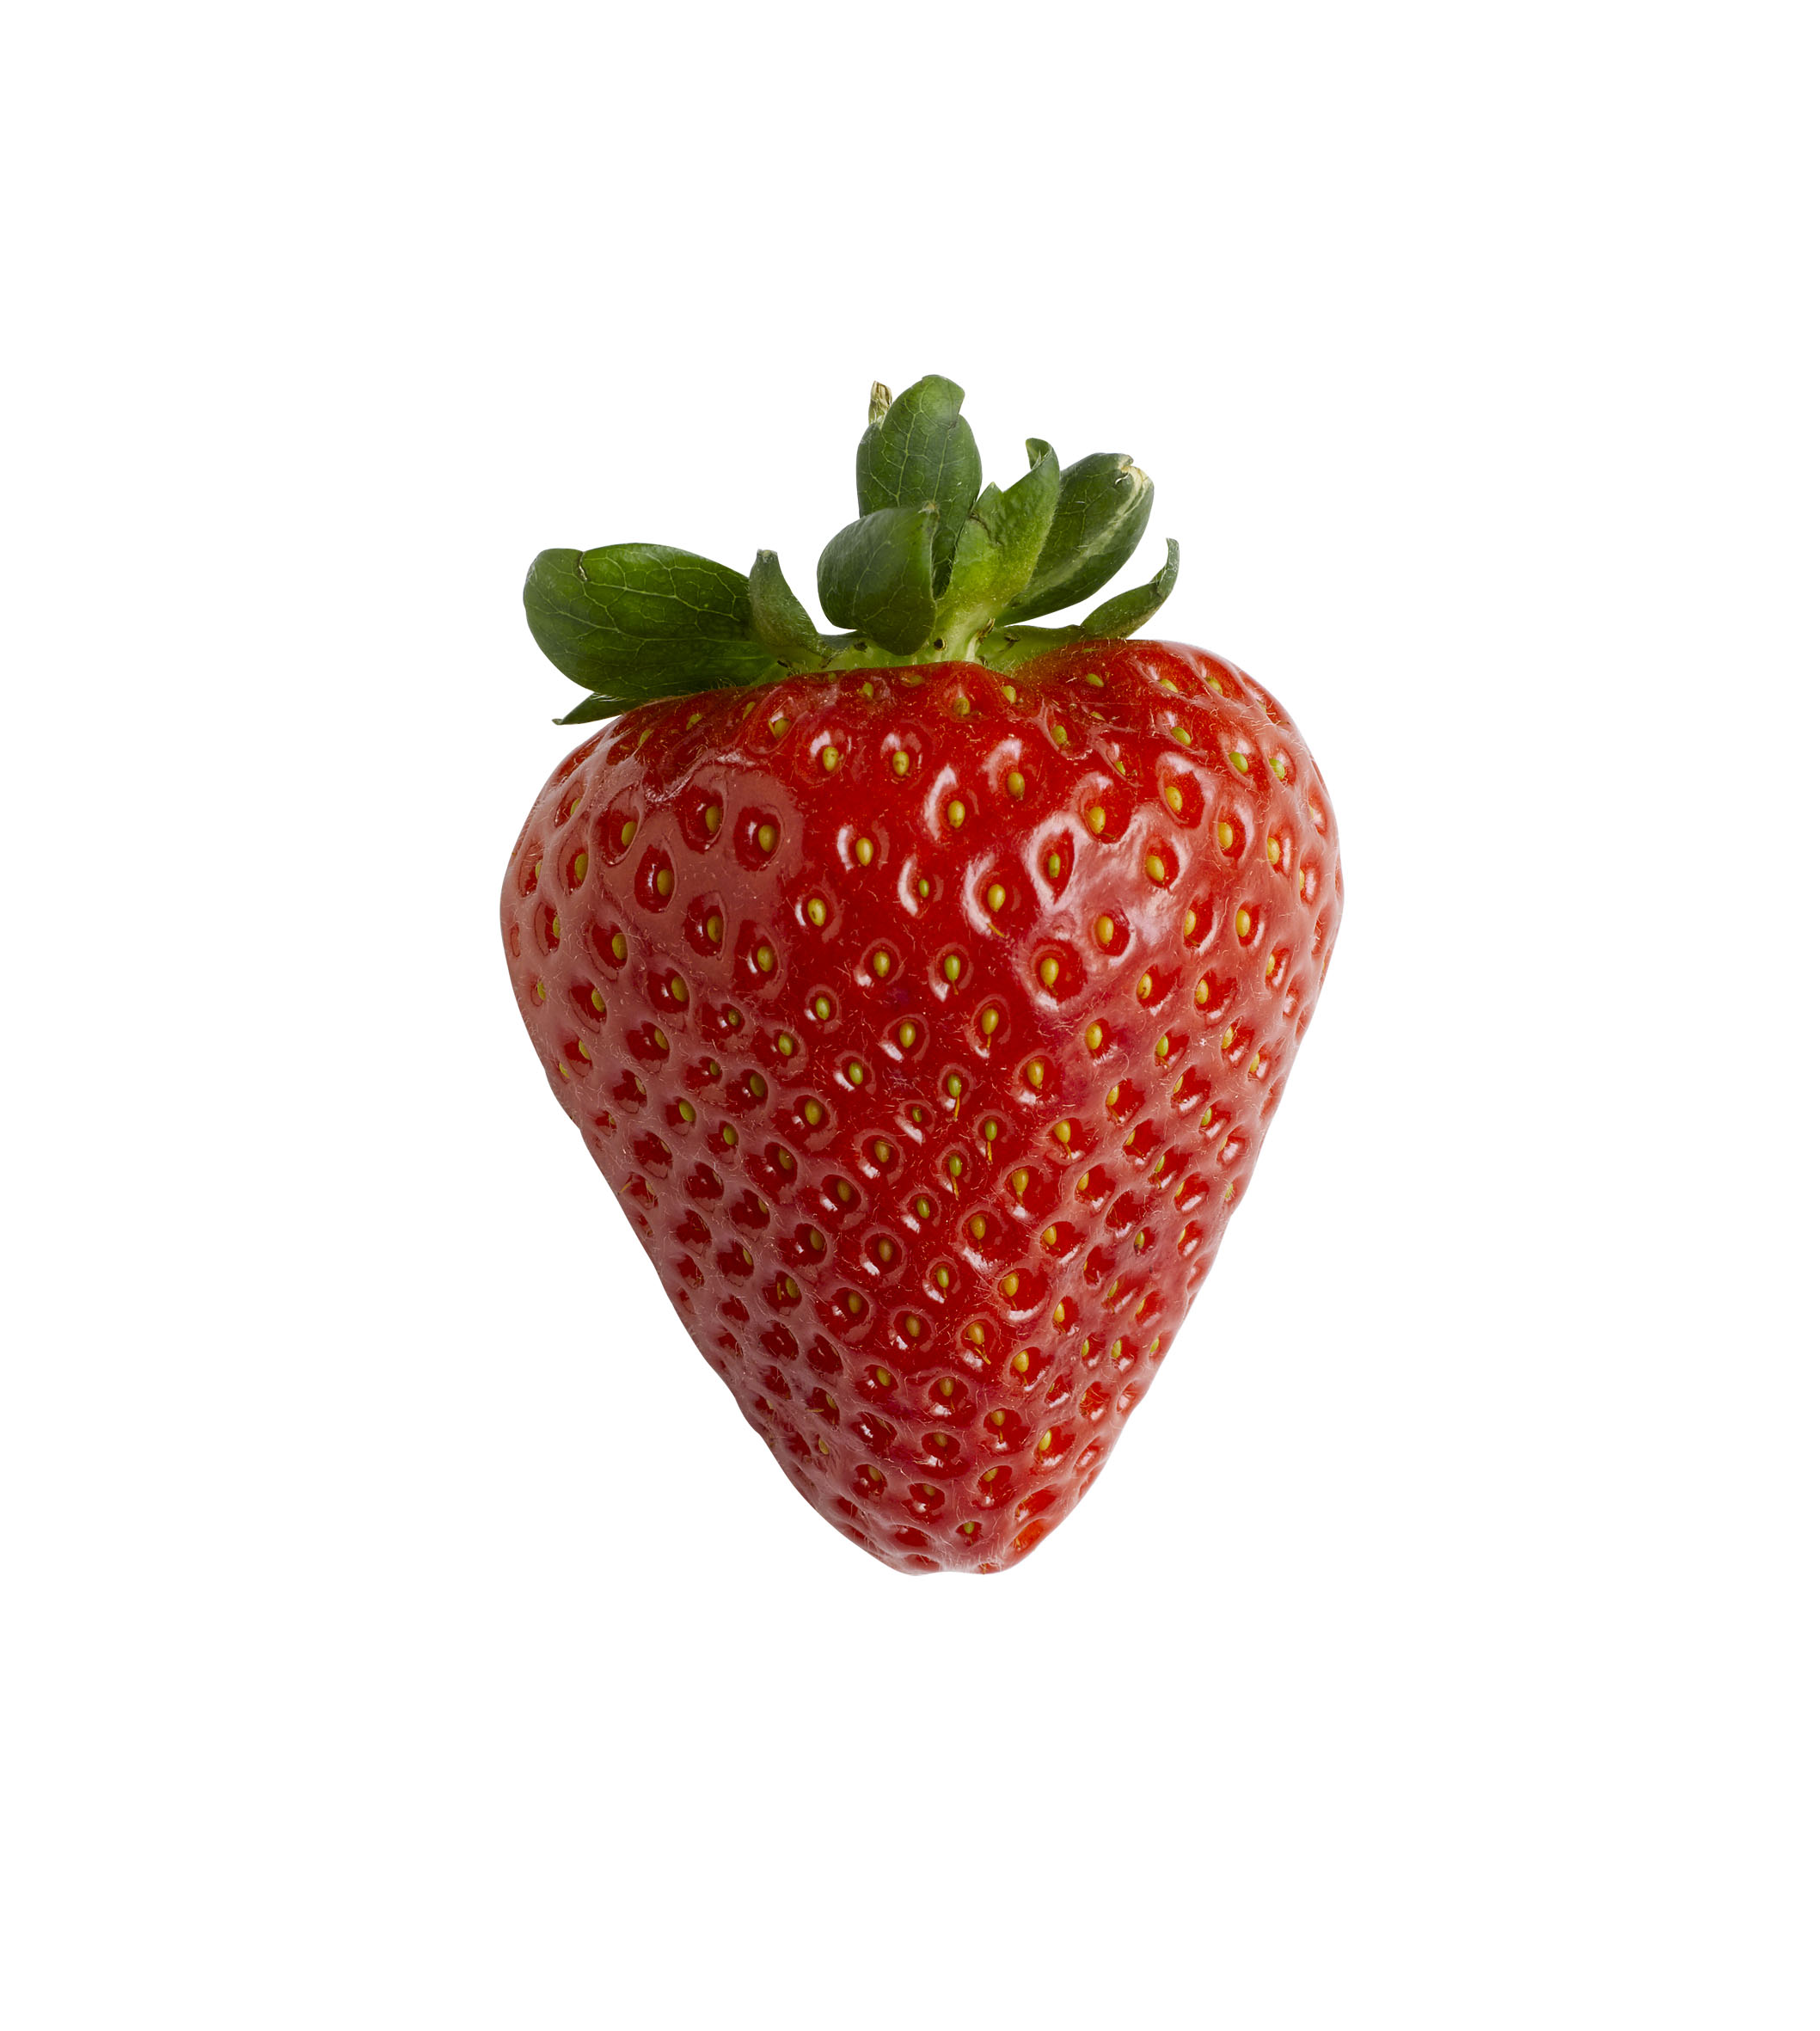strawberry: (464, 406, 1351, 1581)
